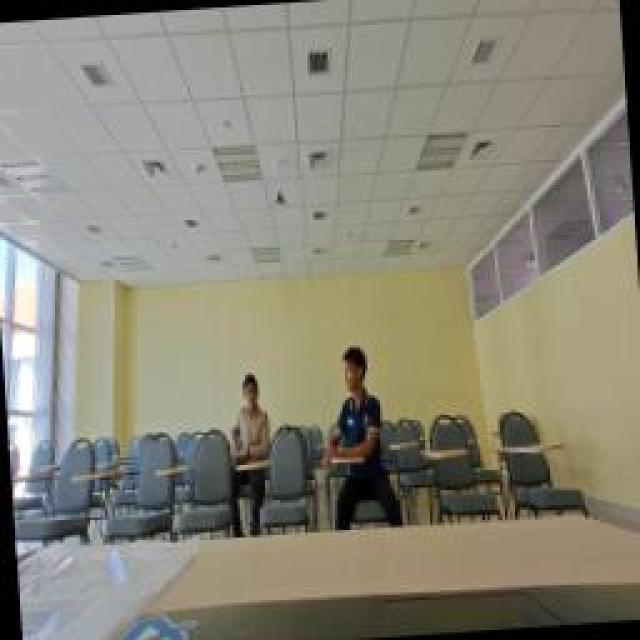study: (320, 340, 385, 458), (228, 362, 272, 460)
